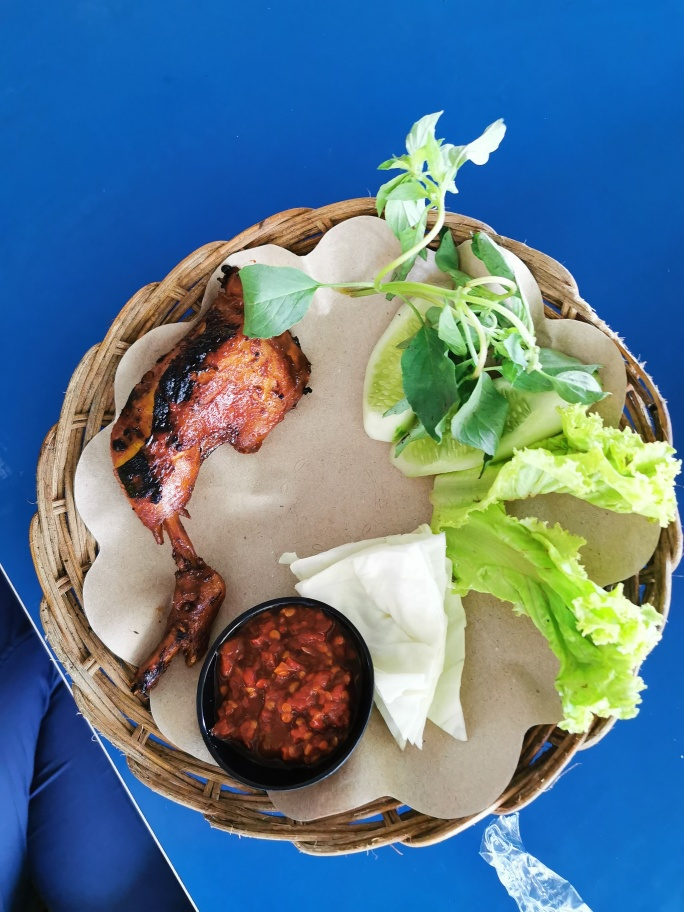ayam bakar: (116, 253, 309, 682)
